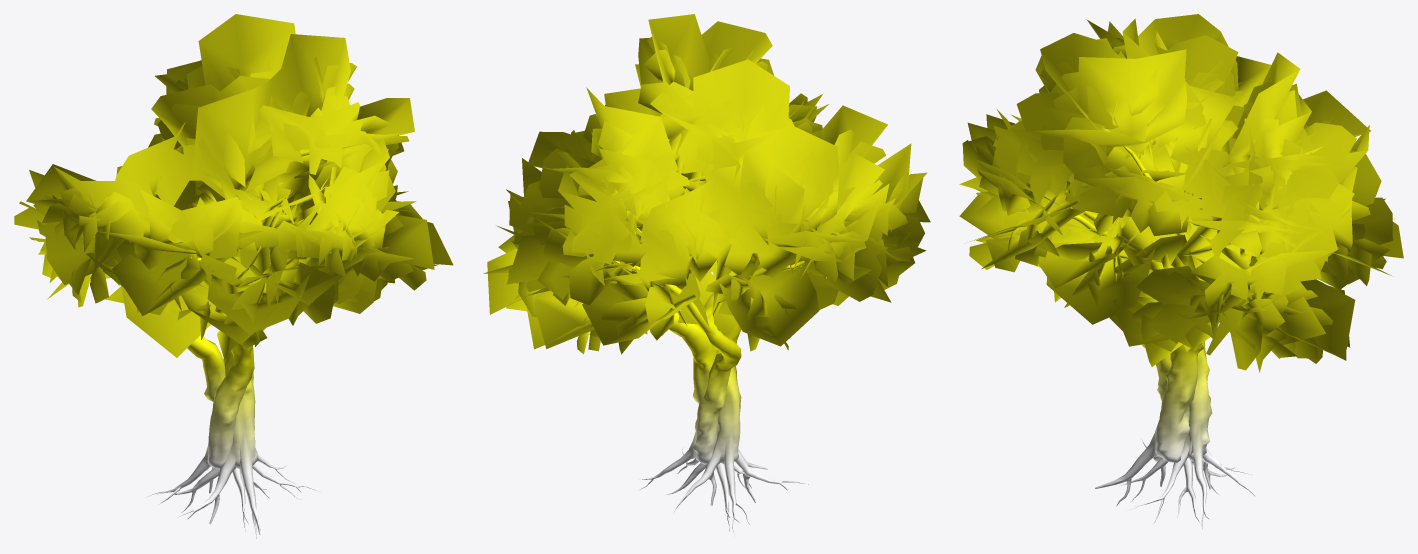
The model's file is Olivetree4.fbx.
3 renders of one model, left to right at view 1: azimuth 30°, elevation 25°; view 2: azimuth 150°, elevation 25°; view 3: azimuth 270°, elevation 25°, orthographic. The views are drawn at different scales.
Visible parts, largest first — view 1: Olivetree4_LOD0; view 2: Olivetree4_LOD0; view 3: Olivetree4_LOD0.
Part boxes in pixels (left/top/right/bottom): Olivetree4_LOD0: left=14, top=14, right=453, bottom=539; Olivetree4_LOD0: left=483, top=14, right=930, bottom=538; Olivetree4_LOD0: left=959, top=14, right=1403, bottom=537.
Size of what is drawn, in the model's own units: 1127 by 1369 by 1099.
